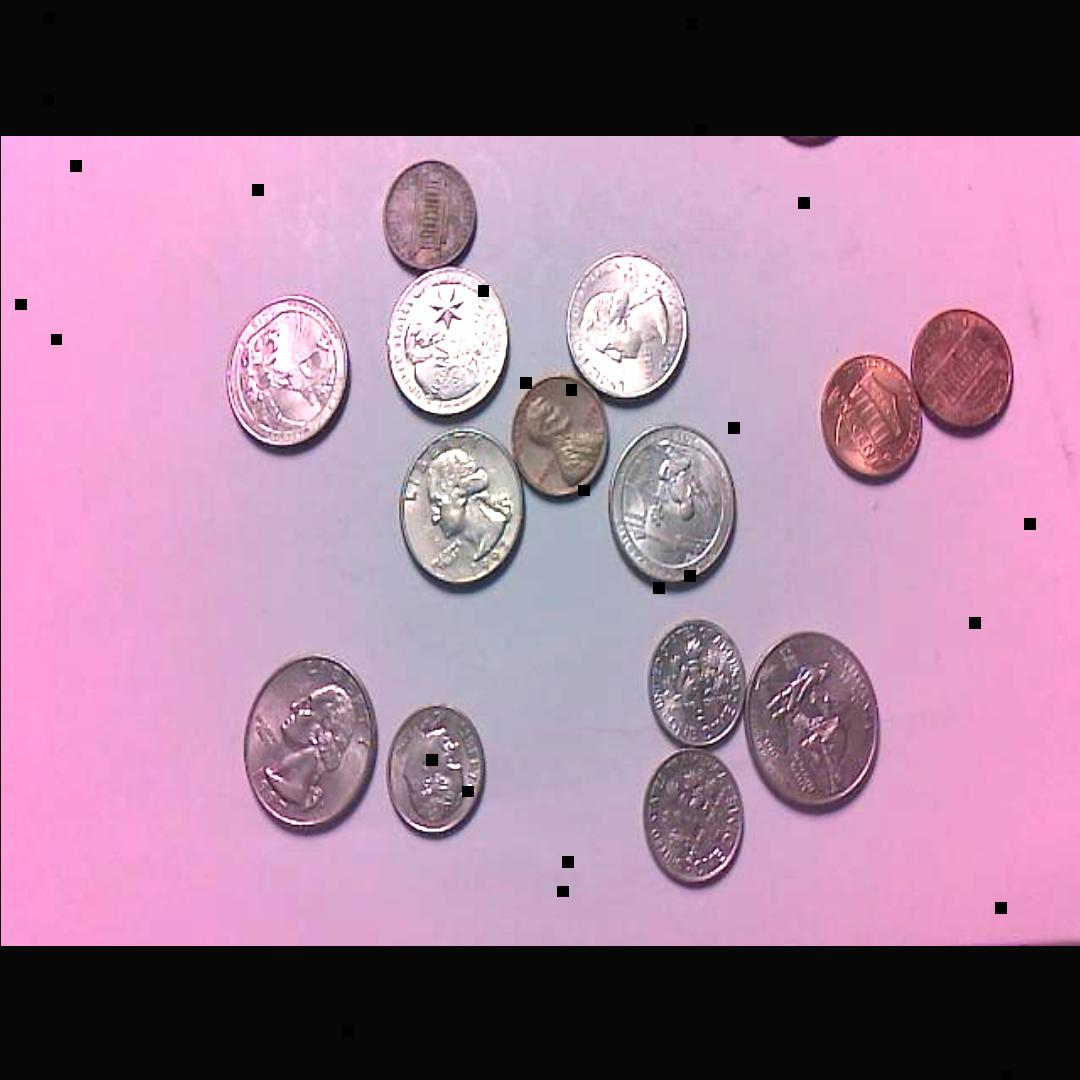Dime: (641, 741, 746, 888), (383, 702, 486, 839), (645, 614, 746, 746)
Penny: (906, 302, 1018, 437), (818, 349, 925, 484), (510, 370, 609, 501), (380, 155, 479, 270)
Quarter: (742, 628, 883, 815), (240, 651, 380, 835), (606, 422, 739, 589), (221, 290, 349, 456), (398, 427, 525, 592), (385, 260, 510, 418), (564, 250, 688, 403)
